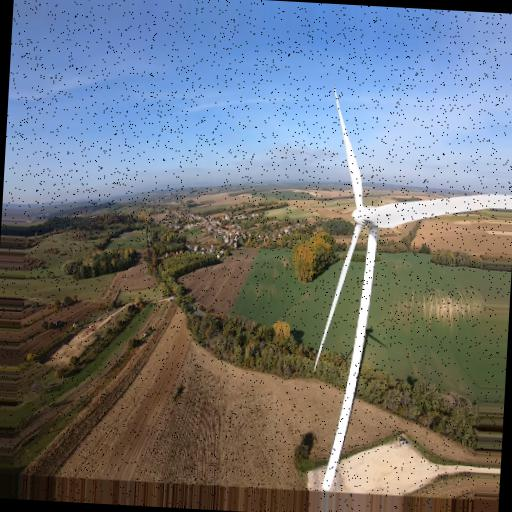wind turbine: (312, 90, 512, 493)
